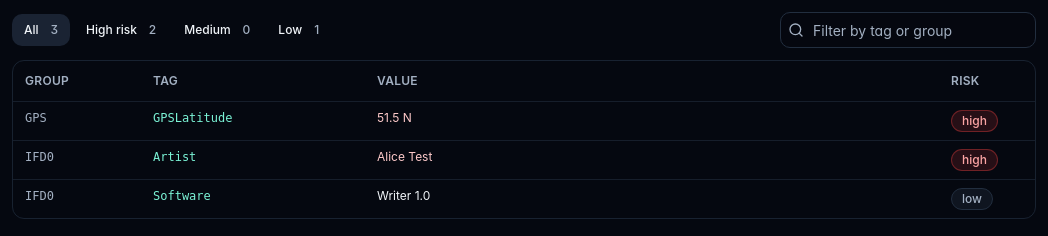
Test case: metadata table › renders every entry and filters by risk
Expected: the text "GPSLatitude" is shown, [141,101,365,140]
Expected: the text "Software" is shown, [141,179,365,218]
Click the button "Low 1": (299, 30) [266,14,331,46]
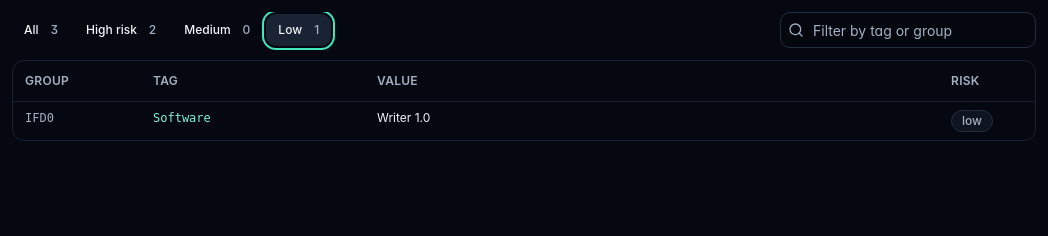
Expected: the text "Software" is shown, [141,101,365,140]
Expected: the text "GPSLatitude" is gone
